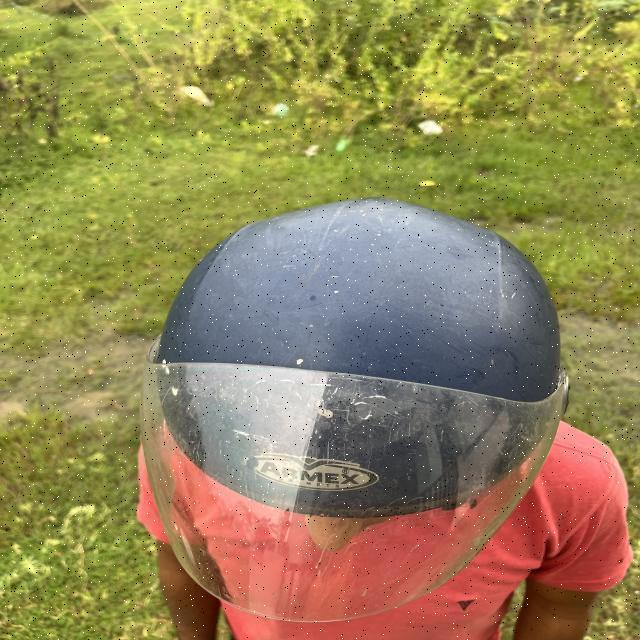helmet: (142, 200, 570, 620)
